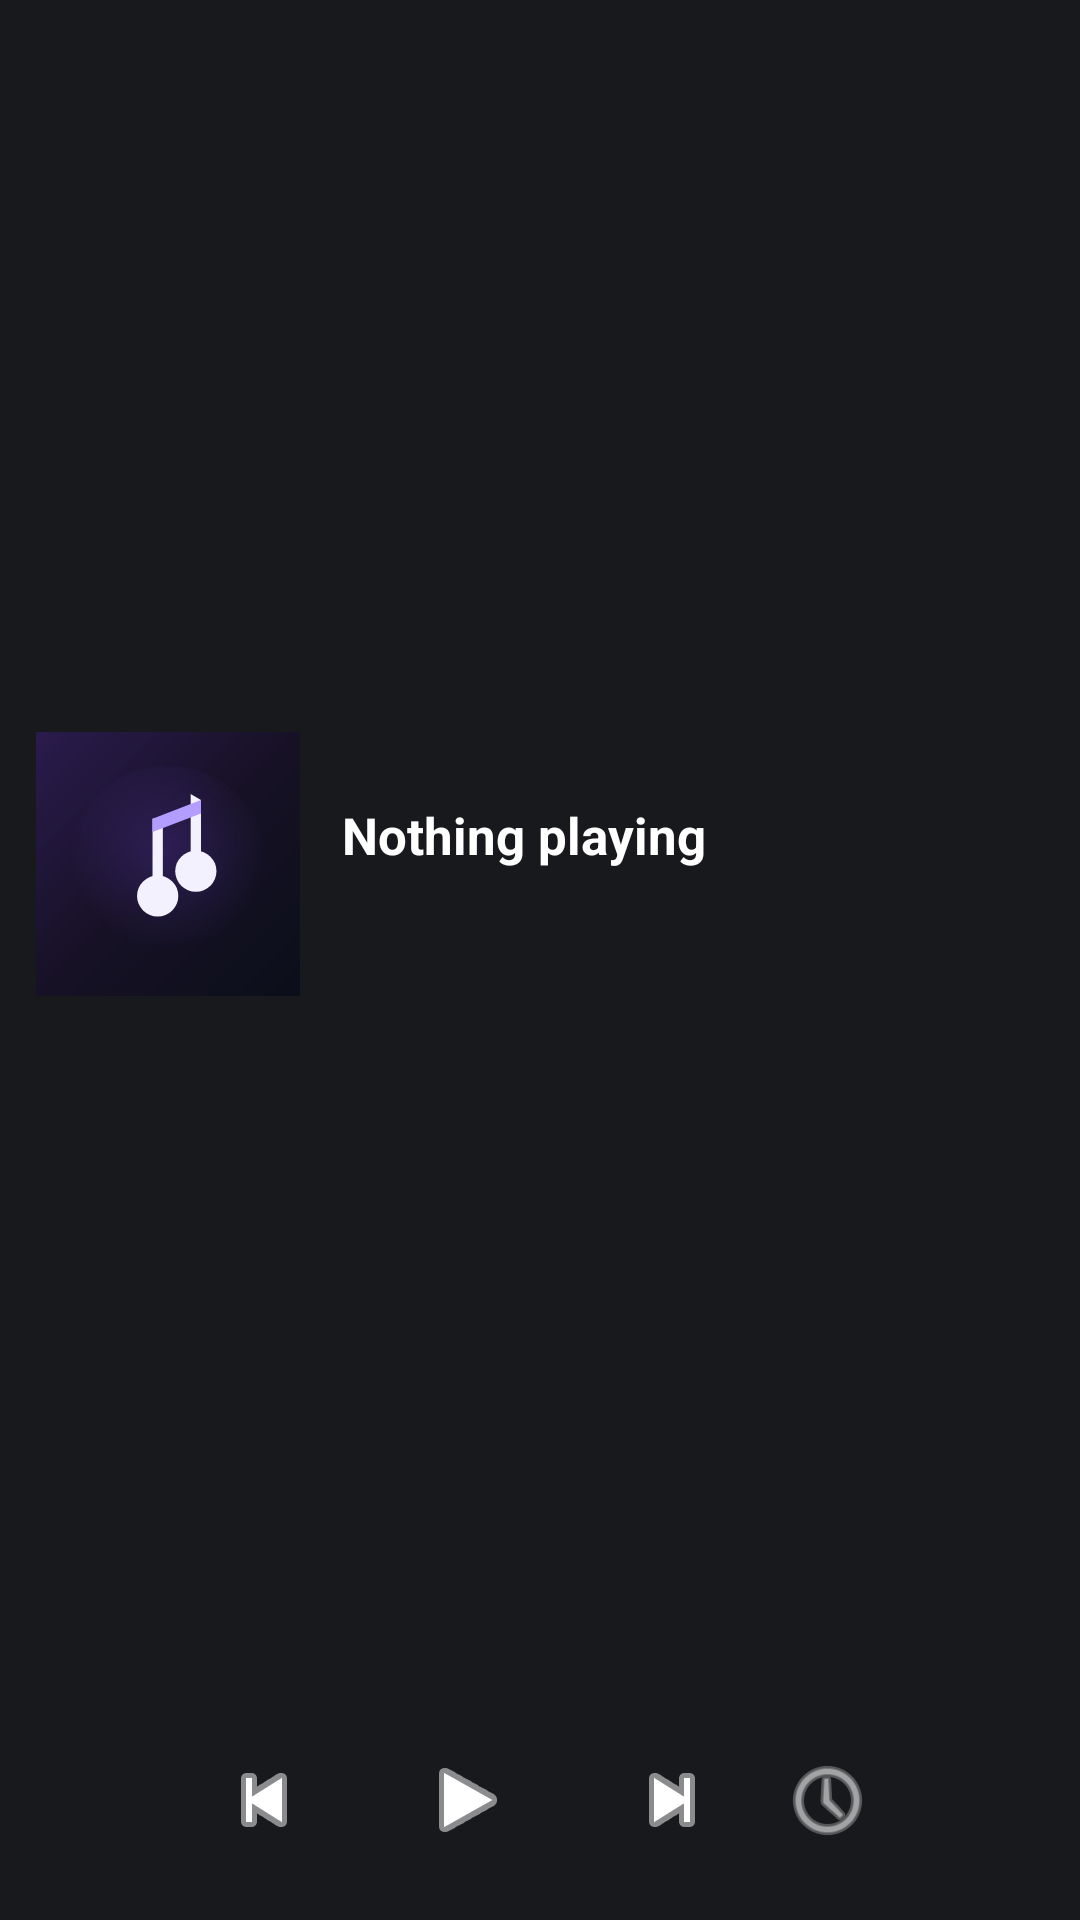

Point at icon controls on the screen. Image size 1080*1920, points as (x,y).
artwork: (132,824)
Next track: (672,1800)
Play: (468,1800)
Previous track: (264,1800)
